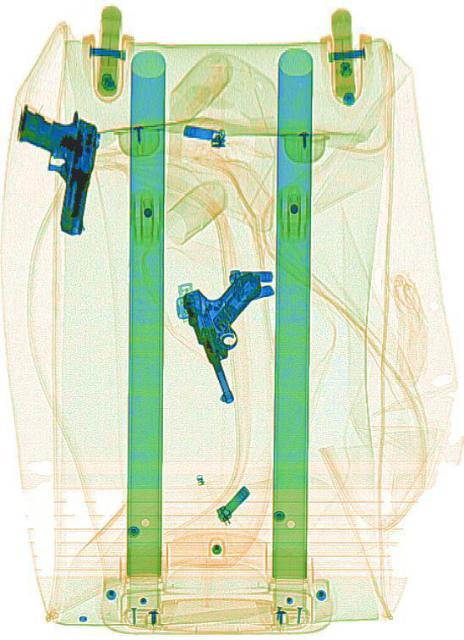Gun: (178, 260, 286, 408), (1, 94, 100, 236)
